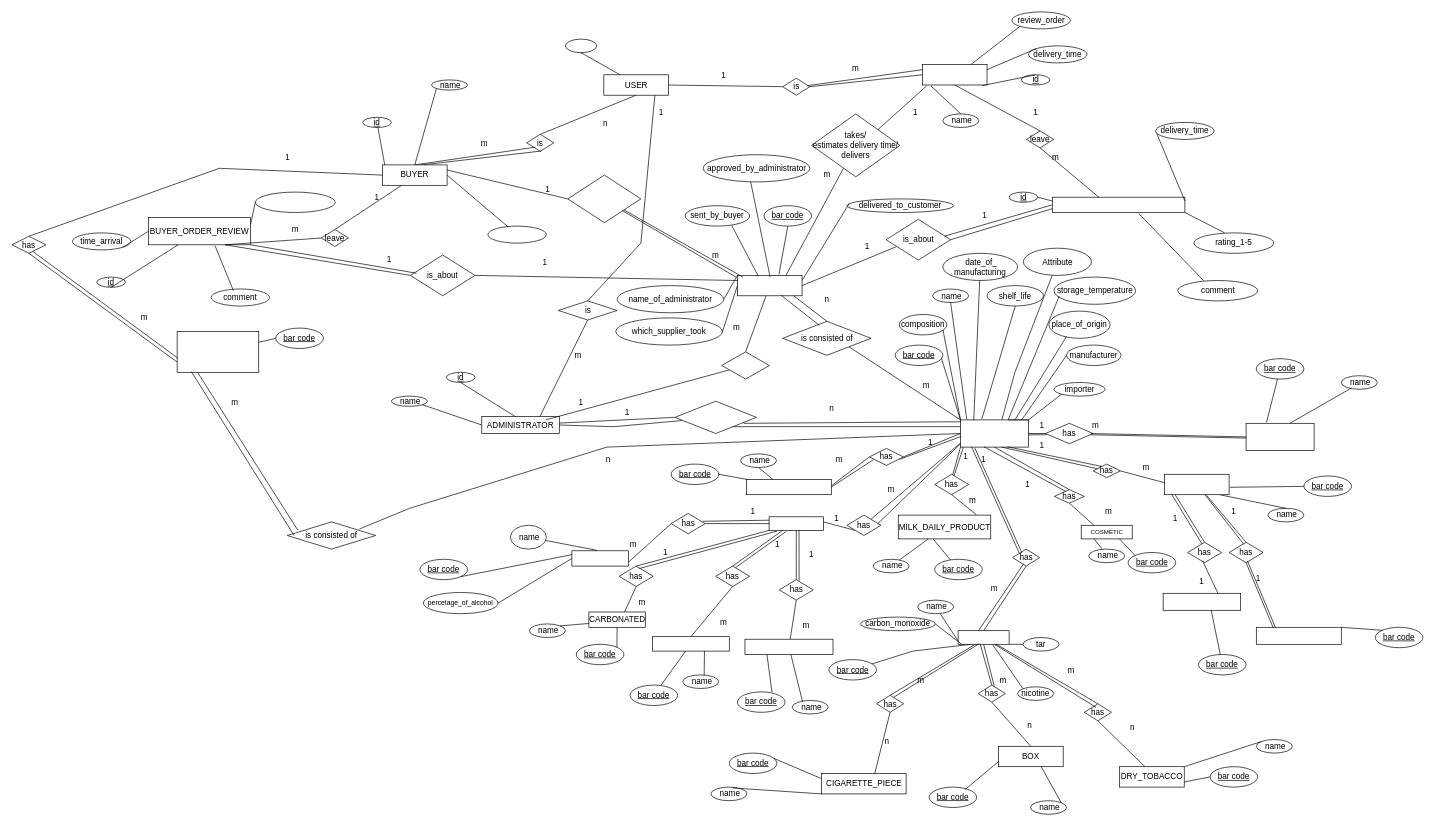
The diagram is 1435 pixels wide and 826 high, and some of its shapes have lost their labels. The shapes that lost their labels are listed below. From the top down, each one's centre as x and y in pixels, then its label:
At (x=581, y=45): "embg".
At (x=954, y=74): "SUPPLIER".
At (x=295, y=202): "review_rating1-5".
At (x=604, y=198): "has/ provide delivered time".
At (x=1118, y=205): "SUPPLIER_ORDER_REVIW".
At (x=516, y=234): "delivery".
At (x=769, y=285): "ORDER".
At (x=217, y=351): "BASKET".
At (x=745, y=365): "approve".
At (x=715, y=417): "create_modifile".
At (x=994, y=433): "PRODUCT".
At (x=1279, y=437): "FOOD_PRODUCT".
At (x=788, y=487): "CONFECTIONERY_PRODUCT".
At (x=1196, y=484): "HOUSEHOLD_ITEM".
At (x=795, y=523): "DRINK".
At (x=599, y=558): "ALCOHOLIC".
At (x=1201, y=601): "KITCHEN_UTENSIL".
At (x=690, y=643): "NON_ALCOHOLIC".
At (x=788, y=646): "NON_CARBONATED".
At (x=983, y=637): "TOBACCO".
At (x=1298, y=635): "CLEANING_AGENT".
